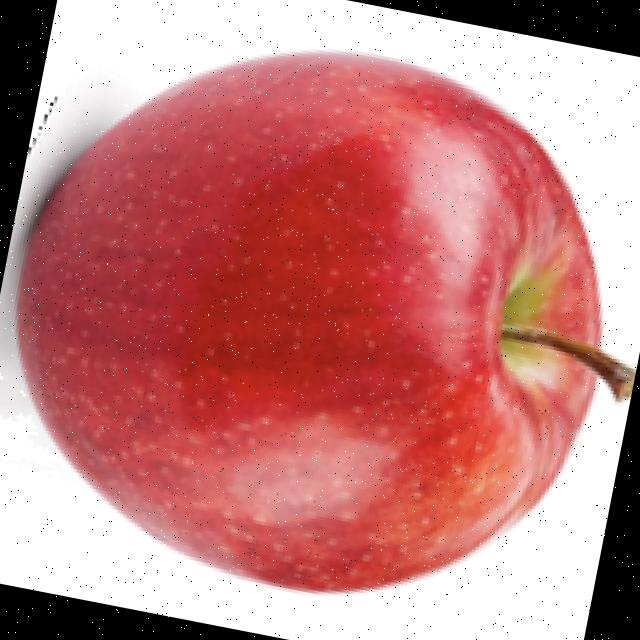apple: (0, 47, 637, 599)
